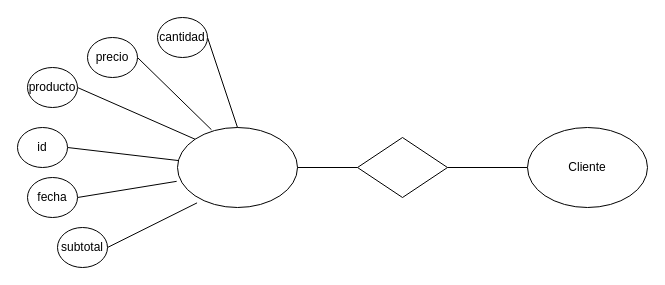
Some shapes in this 665 by 285 pixel diagram are drawn without their labels. Each missing label, with the box of its shape:
Factura: (176, 126, 298, 208)
Pertenece: (356, 136, 448, 198)
